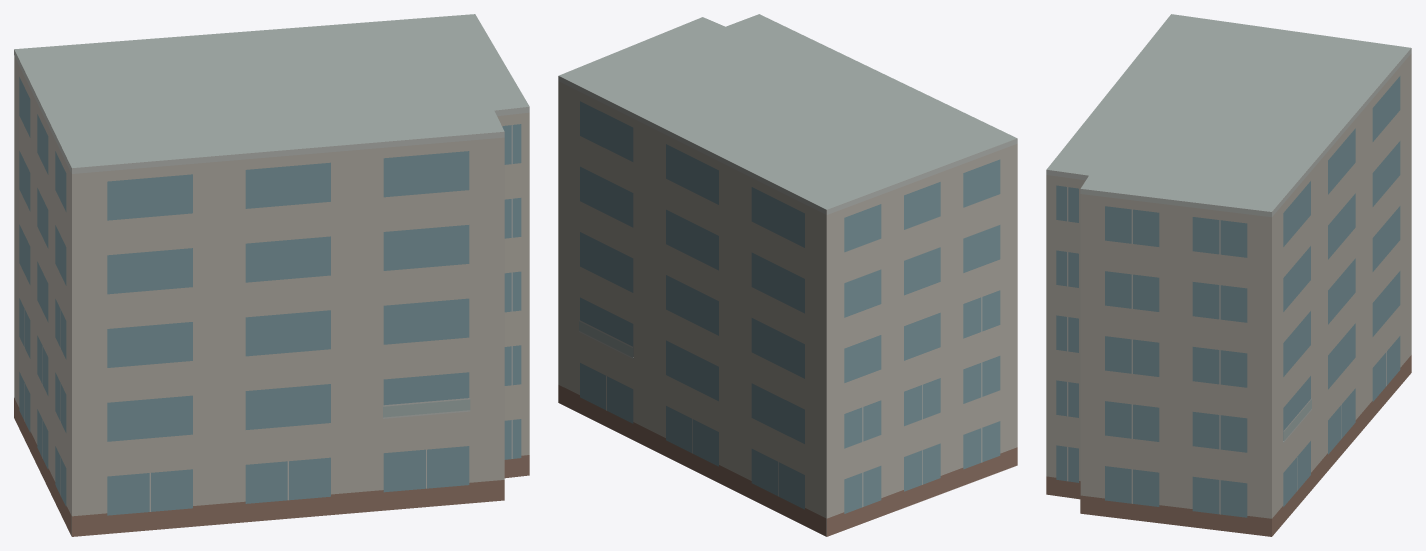
Rendered from survey-upis-32812679.glb.
The picture shows the model from 3 angles, left to right: view 1: azimuth 30°, elevation 25°; view 2: azimuth 150°, elevation 25°; view 3: azimuth 270°, elevation 25°; orthographic projection. The views are drawn at different scales.
Visible parts, largest first — view 1: survey-upis-32812679.tmp; view 2: survey-upis-32812679.tmp; view 3: survey-upis-32812679.tmp.
Part boxes in pixels (<box>): survey-upis-32812679.tmp: <box>14,14,529,536</box>; survey-upis-32812679.tmp: <box>558,14,1017,536</box>; survey-upis-32812679.tmp: <box>1046,14,1411,536</box>.
Bounding box in the file's own units: 19.88 × 15.2 × 15.49.
